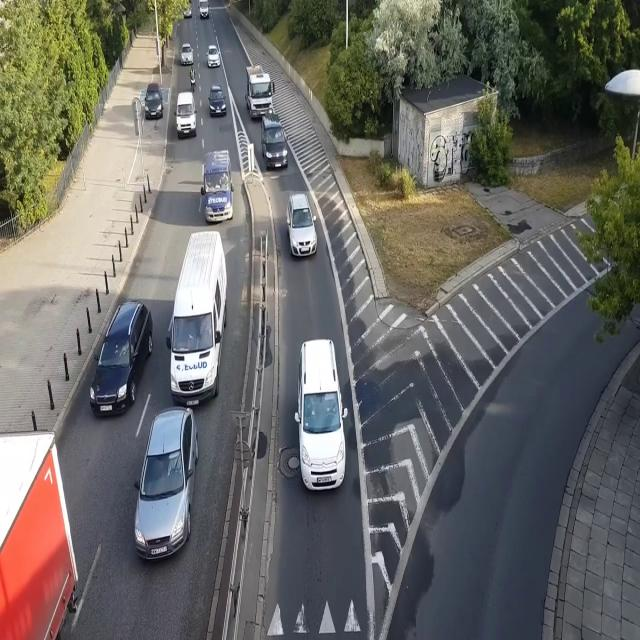car: (133, 406, 200, 562), (90, 301, 154, 414), (286, 194, 318, 257), (144, 82, 165, 118), (208, 84, 226, 117), (206, 45, 221, 68), (179, 44, 194, 64), (183, 5, 192, 18)
motorcycle: (188, 64, 197, 94)
truck: (0, 427, 78, 640), (246, 64, 276, 120)
van: (166, 230, 228, 413), (294, 336, 349, 494), (201, 152, 234, 224), (260, 113, 289, 175), (175, 92, 198, 140), (197, 0, 210, 19)
